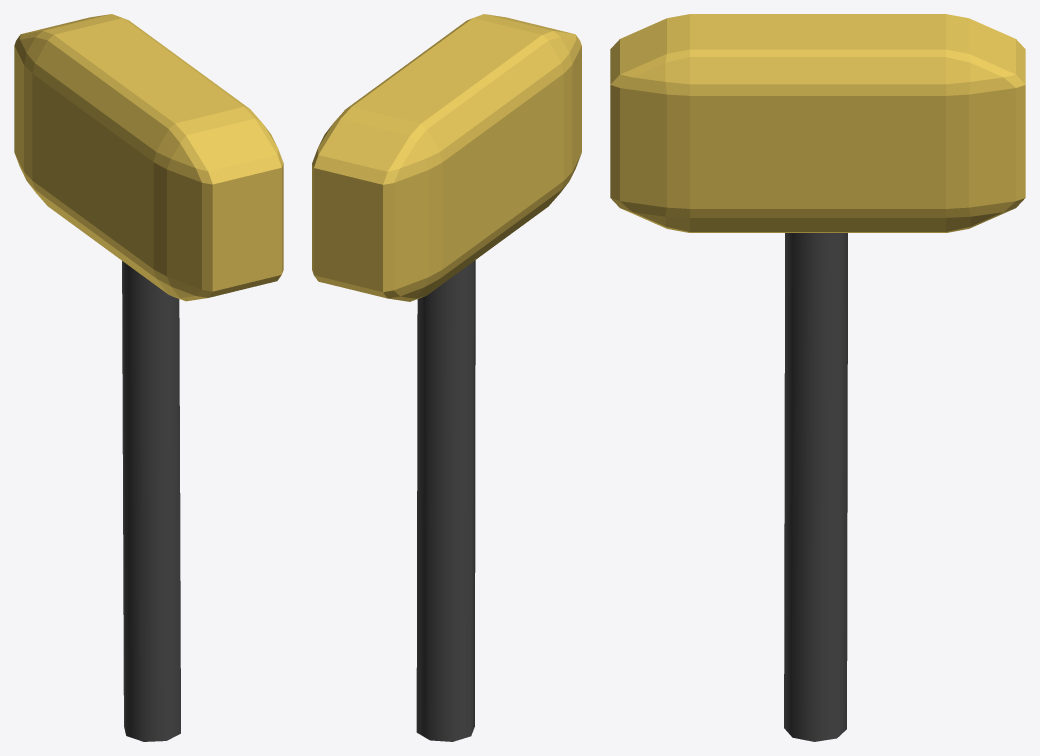
The model's file is Tokmak.fbx.
3 views of the same model, side by side, from view 1: azimuth 30°, elevation 25°; view 2: azimuth 150°, elevation 25°; view 3: azimuth 270°, elevation 25° (orthographic). The views are drawn at different scales.
Visible parts, largest first — view 1: bayloz; view 2: bayloz; view 3: bayloz.
Part boxes in pixels (x1,y1,x2,y2): bayloz: (14,14,283,741); bayloz: (312,14,581,741); bayloz: (610,14,1025,741).
Size of the model in its own units: 46.81 by 142 by 263.
